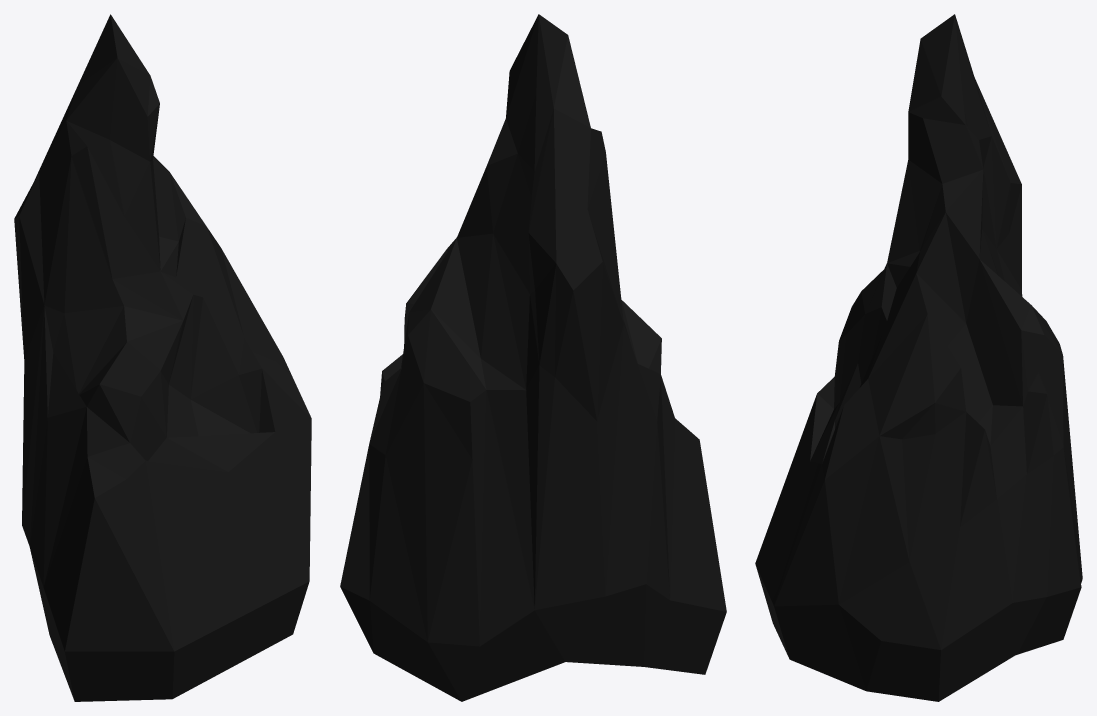
The model's file is pit_spikes_b.gltf.
3 views of the same model, side by side, from view 1: azimuth 30°, elevation 25°; view 2: azimuth 150°, elevation 25°; view 3: azimuth 270°, elevation 25° (orthographic). The views are drawn at different scales.
Visible parts, largest first — view 1: pit_spikes_b; view 2: pit_spikes_b; view 3: pit_spikes_b.
Part boxes in pixels (bbox=[...]): pit_spikes_b: bbox=[14, 14, 311, 701]; pit_spikes_b: bbox=[340, 14, 726, 701]; pit_spikes_b: bbox=[755, 14, 1082, 701].
Size of the model in its own units: 2.89 by 6.27 by 2.94.
Materials: 1 (1 with a texture image).
